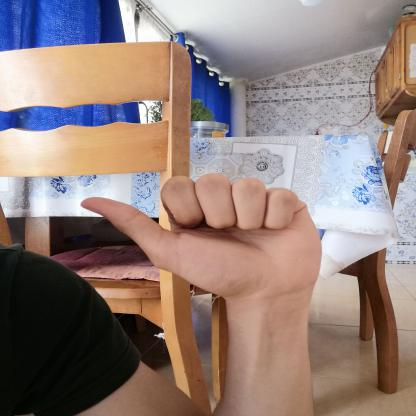DAD: (67, 165, 334, 311)
